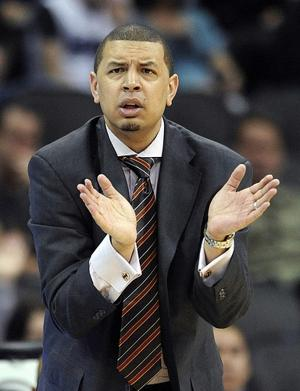person: (25, 25, 280, 389)
